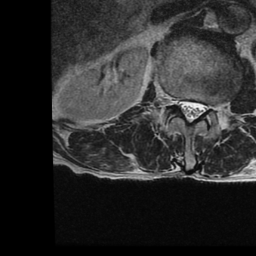CCS_normal: (187, 90, 196, 132)
LFS_severe_stenosis: (206, 93, 215, 120)
LLS_normal: (195, 92, 207, 122)
RFS_normal: (168, 87, 178, 113)
RLS_normal: (178, 90, 187, 122)
